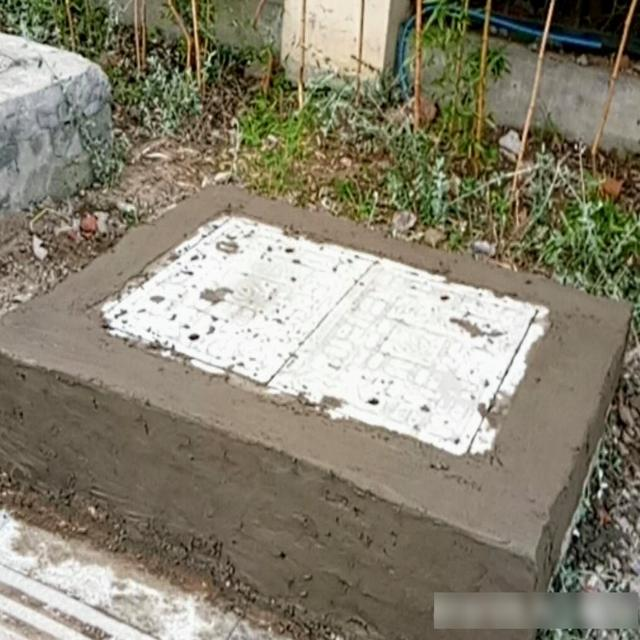good: (82, 209, 554, 454)
